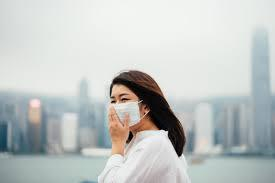Wearing Mask: (108, 69, 170, 135)
